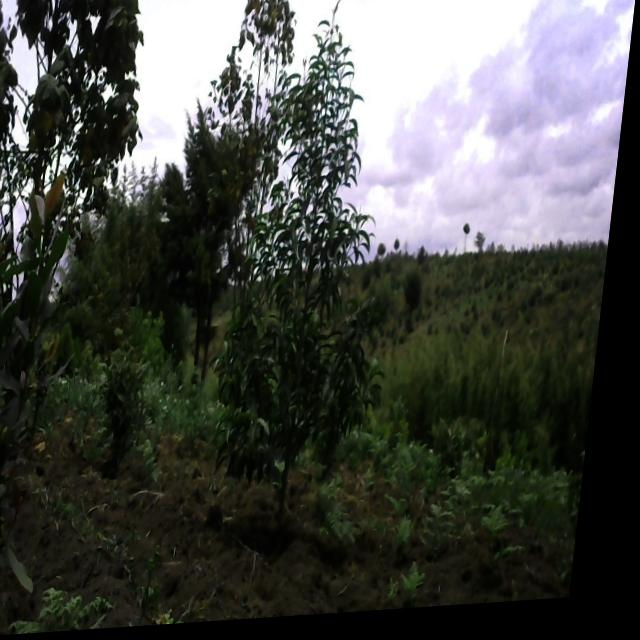Hass Avocado: (218, 16, 416, 511)
Syzygium gineense: (0, 171, 90, 593)
cedrus: (155, 100, 265, 327), (133, 149, 168, 322)
other: (0, 0, 154, 356), (190, 0, 316, 302)
